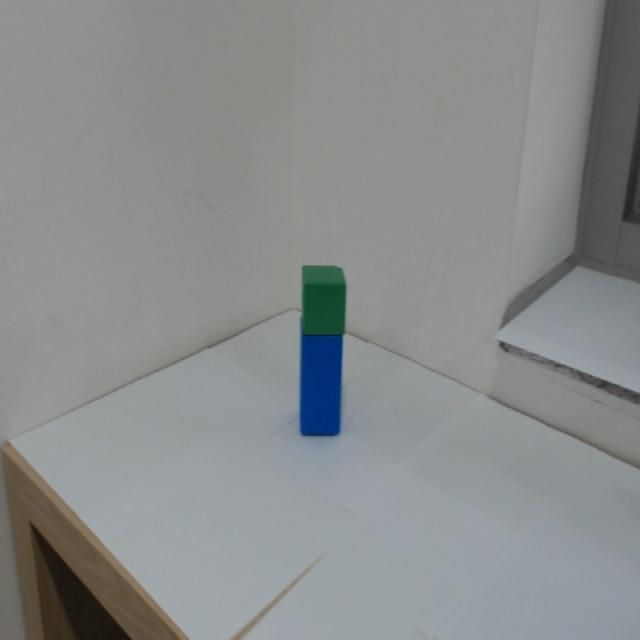cube: (293, 259, 365, 338)
